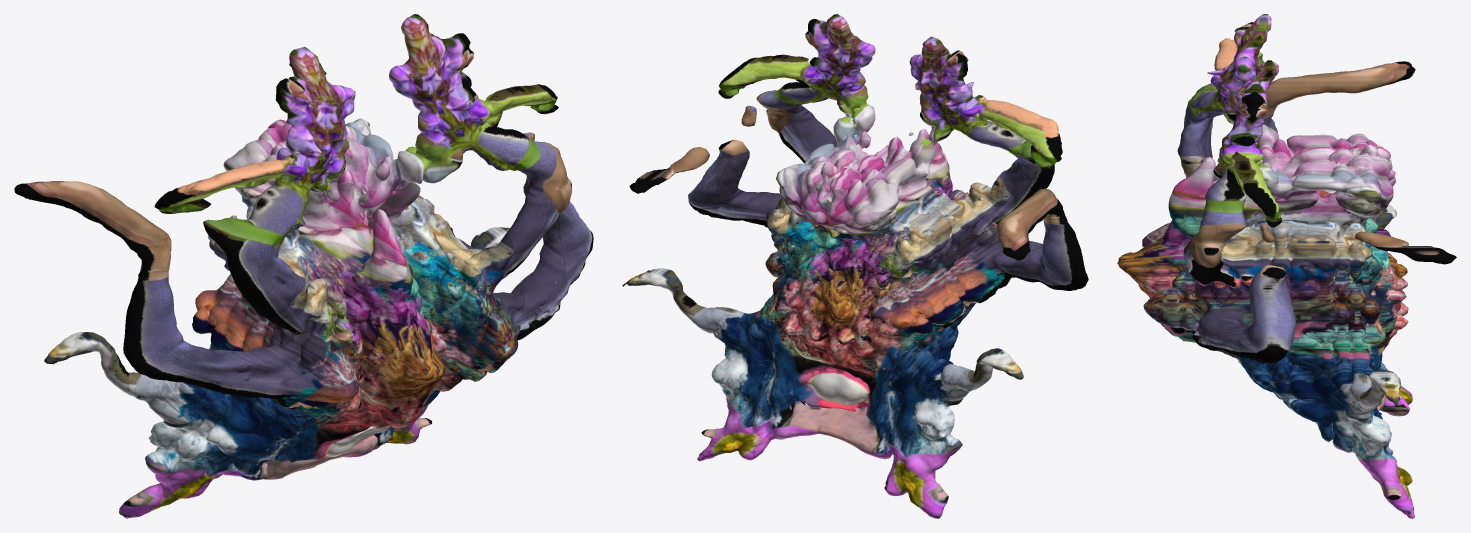
Rendered from donechimera.glb.
3 views of the same model, side by side, from view 1: azimuth 30°, elevation 25°; view 2: azimuth 150°, elevation 25°; view 3: azimuth 270°, elevation 25° (orthographic). The views are drawn at different scales.
Parts seen in each view (by area): view 1: tmp_zy3hl1e (1); view 2: tmp_zy3hl1e (1); view 3: tmp_zy3hl1e (1).
Part boxes in pixels (x1,y1,x2,y2): tmp_zy3hl1e (1): (14, 14, 593, 518); tmp_zy3hl1e (1): (622, 14, 1088, 518); tmp_zy3hl1e (1): (1117, 14, 1456, 518).
Bounding box in the file's own units: 0.8682 × 0.8413 × 0.6069.
1 material, 1 textured.
